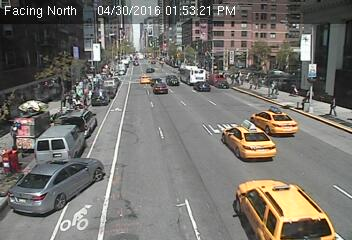neg: (1, 94, 37, 142), (102, 150, 129, 186), (68, 197, 94, 232), (92, 68, 117, 100), (205, 87, 228, 117), (77, 98, 96, 124), (223, 176, 241, 200), (213, 45, 227, 64), (177, 59, 189, 76)
pos: (326, 92, 342, 114), (302, 87, 317, 106), (288, 84, 297, 95)
